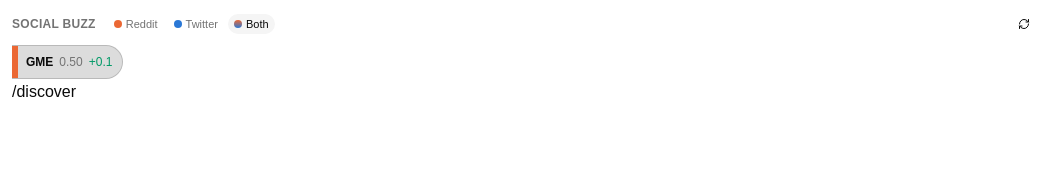
Scenario: a ticker only on Reddit opens the stock page Social tab on that platform
Click the button "GME 0.50 +0.1" at x=67, y=62, box [12,46,122,78]
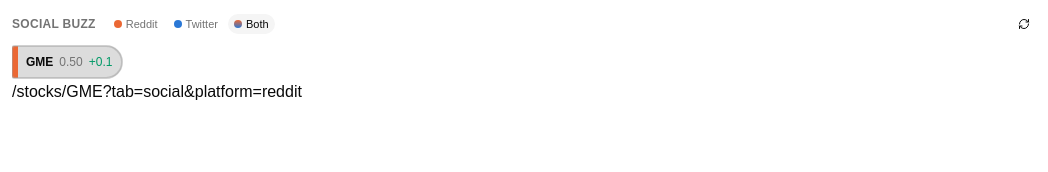
Expected: the text named "Current location" reads "/stocks/GME?tab=social&platform=reddit", [12,83,302,100]
